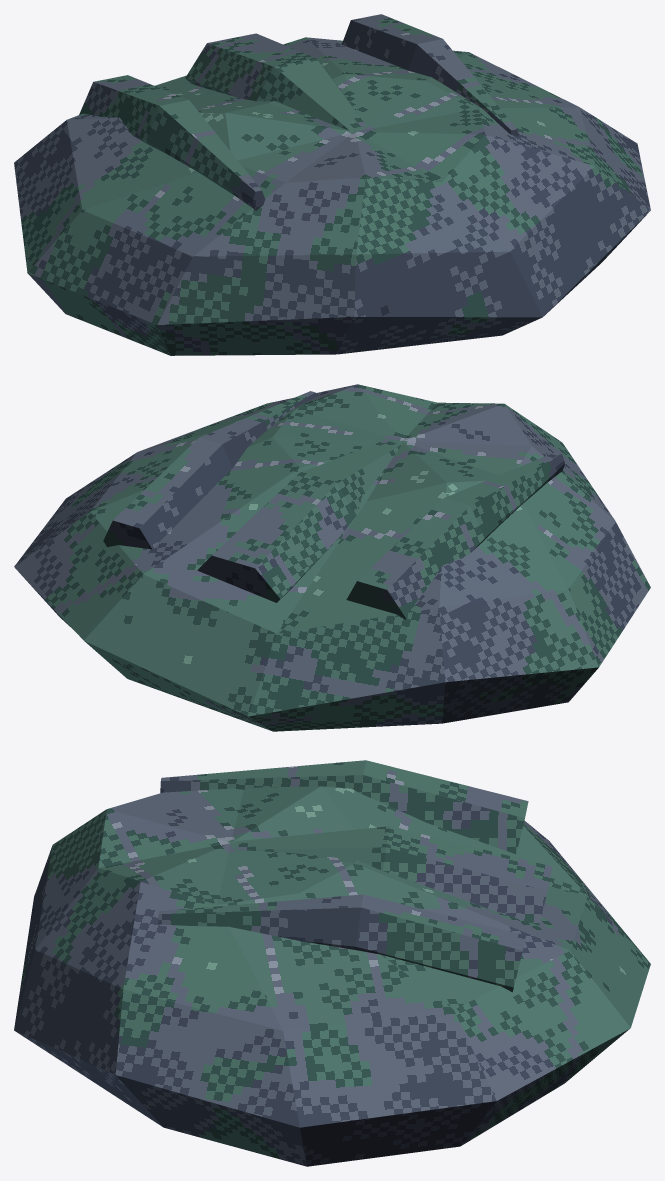
The model's file is SM_Prop_CreatureCarapacePlate_01.glb.
3 renders of one model, top to bottom at view 1: azimuth 30°, elevation 25°; view 2: azimuth 150°, elevation 25°; view 3: azimuth 270°, elevation 25°, orthographic. The views are drawn at different scales.
Visible parts, largest first — view 1: shell_plate, shell_keel_1, shell_keel_0, shell_keel_2; view 2: shell_plate, shell_keel_1, shell_keel_0, shell_keel_2; view 3: shell_plate, shell_keel_2, shell_keel_1, shell_keel_0.
Part boxes in pixels (x1,y1,x2,y2): shell_plate: [14, 37, 650, 355]; shell_keel_1: [185, 33, 366, 131]; shell_keel_0: [79, 75, 265, 210]; shell_keel_2: [342, 14, 519, 136]; shell_plate: [14, 384, 650, 731]; shell_keel_1: [197, 440, 402, 602]; shell_keel_0: [346, 452, 564, 619]; shell_keel_2: [103, 391, 316, 549]; shell_plate: [14, 786, 650, 1166]; shell_keel_2: [158, 894, 525, 992]; shell_keel_1: [233, 826, 552, 925]; shell_keel_0: [160, 760, 528, 854].
Bounding box in the file's own units: 0.6149 × 0.1879 × 0.5453.
1 material, 1 textured.
